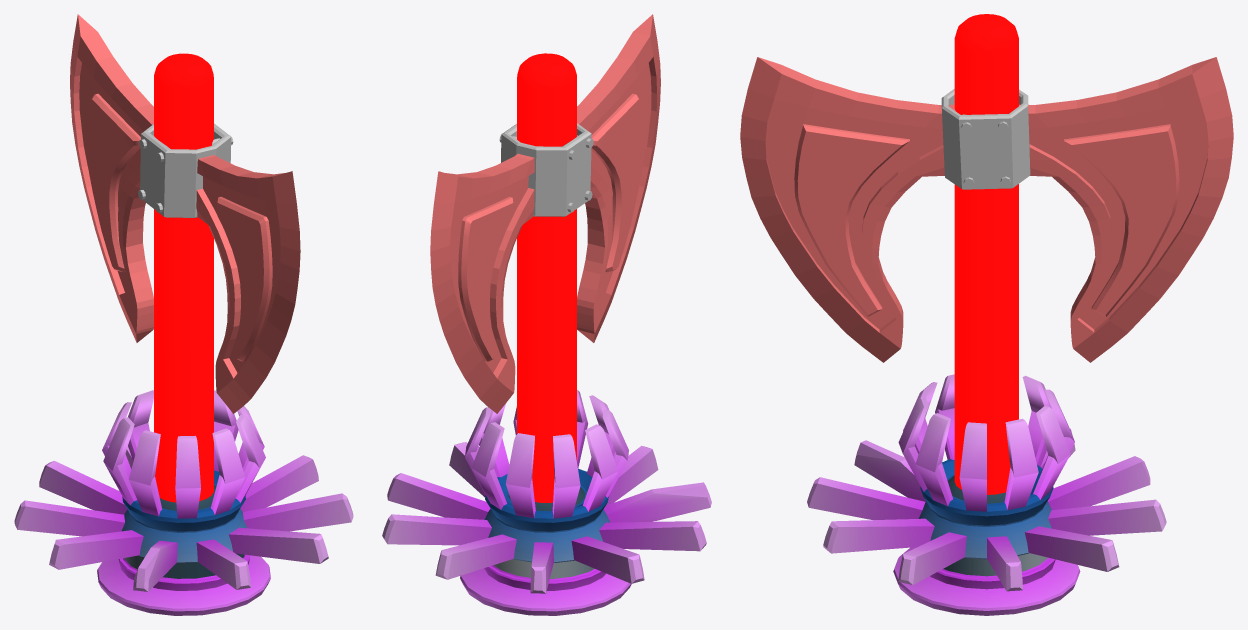
Rendered from 4_Light_Saber_Axe_Module.fbx.
3 renders of one model, left to right at view 1: azimuth 30°, elevation 25°; view 2: azimuth 150°, elevation 25°; view 3: azimuth 270°, elevation 25°, orthographic. The views are drawn at different scales.
Parts seen in each view (by area): view 1: Light_Saber_Axe_Module, Axe4, Light_Saber; view 2: Light_Saber_Axe_Module, Axe4, Light_Saber; view 3: Axe4, Light_Saber_Axe_Module, Light_Saber.
Part boxes in pixels (bbox=[...]): Light_Saber_Axe_Module: bbox=[14, 390, 353, 615]; Axe4: bbox=[70, 14, 300, 413]; Light_Saber: bbox=[154, 53, 213, 502]; Light_Saber_Axe_Module: bbox=[382, 390, 711, 615]; Axe4: bbox=[430, 14, 660, 413]; Light_Saber: bbox=[517, 53, 576, 502]; Axe4: bbox=[740, 57, 1233, 362]; Light_Saber_Axe_Module: bbox=[807, 374, 1166, 615]; Light_Saber: bbox=[954, 14, 1018, 494].
Bounding box in the file's own units: 94.48 × 169 × 130.
